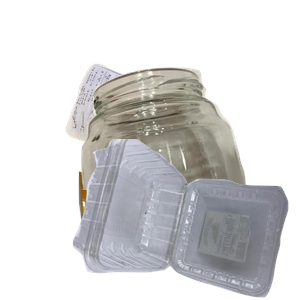glass: (74, 65, 300, 245)
paper: (63, 61, 242, 206)
plastic: (70, 139, 300, 300)
trash: (76, 159, 259, 300)
